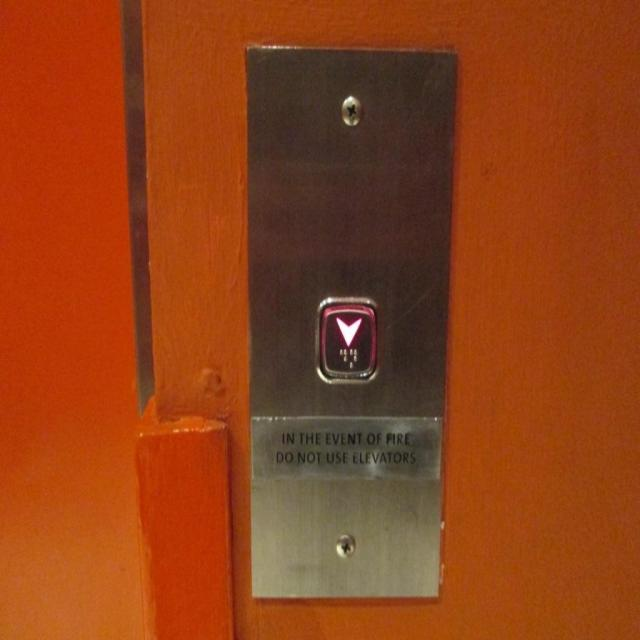down: (311, 289, 383, 390)
